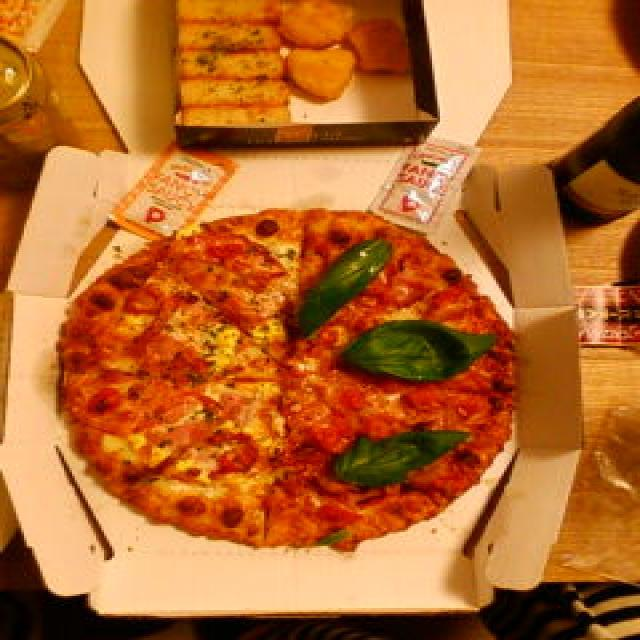Pizza: (61, 212, 523, 544)
